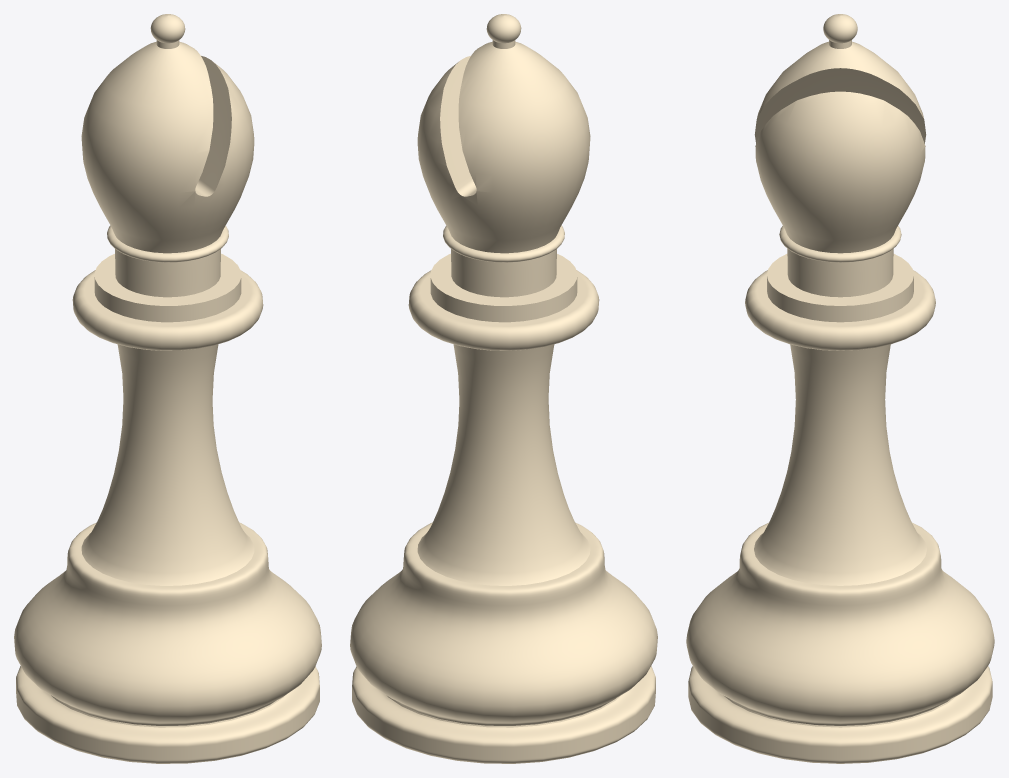
Rendered from Bishop.fbx.
3 views of the same model, side by side, from view 1: azimuth 30°, elevation 25°; view 2: azimuth 150°, elevation 25°; view 3: azimuth 270°, elevation 25° (orthographic).
Visible parts, largest first — view 1: Bishop; view 2: Bishop; view 3: Bishop.
Boxes of the visible parts, x1,y1,x2,y2 form: Bishop: [14, 14, 321, 763]; Bishop: [350, 14, 657, 763]; Bishop: [686, 14, 994, 763].
Size of the model in its own units: 53.66 by 133 by 53.66.
